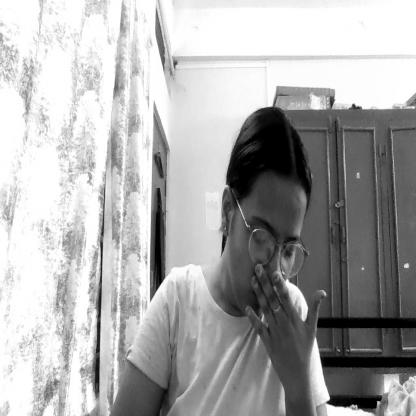Distracted: (233, 165, 309, 311)
